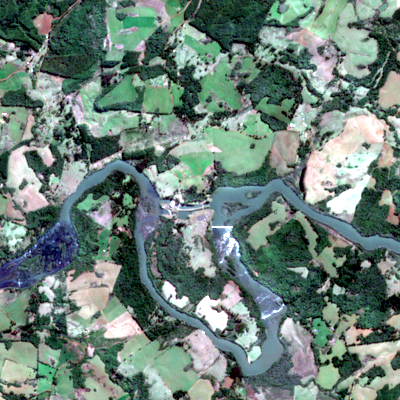Agua: (0, 158, 399, 374), (40, 19, 51, 32), (177, 211, 192, 218)
Solo: (306, 108, 395, 219), (195, 284, 256, 347), (65, 263, 119, 318), (7, 146, 47, 209), (171, 113, 221, 156), (66, 95, 117, 136), (182, 211, 214, 275), (185, 330, 225, 380), (145, 163, 191, 202), (303, 57, 337, 99), (49, 161, 86, 194), (355, 341, 399, 366), (28, 77, 61, 109), (290, 104, 316, 141), (340, 29, 376, 54), (300, 12, 325, 47), (260, 29, 296, 51), (162, 281, 188, 307), (222, 110, 255, 130), (67, 315, 98, 335), (281, 318, 302, 346), (39, 276, 59, 300), (91, 205, 110, 228), (117, 352, 136, 375), (31, 145, 53, 164), (1, 360, 20, 380), (89, 154, 116, 168), (44, 112, 61, 132), (286, 0, 305, 14), (354, 385, 372, 399), (388, 116, 399, 137), (177, 29, 198, 40), (247, 346, 260, 362), (350, 52, 373, 61), (387, 276, 399, 293), (350, 65, 368, 76), (194, 63, 208, 77), (337, 58, 348, 74), (347, 326, 358, 342), (39, 303, 52, 314), (389, 370, 399, 383), (292, 268, 307, 276), (85, 82, 98, 91), (121, 111, 137, 118), (153, 140, 164, 150)
Veg_Densa: (51, 169, 199, 350), (235, 192, 399, 345), (168, 0, 313, 132), (145, 214, 266, 351), (0, 276, 114, 390), (301, 8, 399, 130), (119, 26, 206, 126), (0, 199, 66, 267), (0, 62, 45, 149), (93, 343, 150, 399), (24, 357, 50, 383), (0, 151, 14, 198), (310, 340, 329, 371), (17, 253, 44, 272), (308, 198, 331, 215), (375, 383, 399, 399), (223, 201, 248, 214), (225, 62, 241, 80), (313, 131, 333, 145), (325, 184, 350, 195), (52, 98, 64, 116), (225, 256, 235, 275), (391, 351, 399, 369), (320, 342, 331, 354), (119, 0, 134, 7), (116, 13, 126, 20)
Veg_Rasteira: (65, 0, 302, 202), (0, 247, 232, 399), (235, 302, 399, 399), (160, 195, 214, 271), (304, 104, 343, 165), (76, 194, 128, 238), (324, 73, 369, 104), (211, 304, 248, 340), (375, 129, 399, 177), (373, 71, 399, 115), (303, 177, 341, 207), (377, 249, 399, 296), (236, 325, 260, 352), (379, 190, 398, 223), (53, 159, 69, 182), (178, 301, 199, 317), (361, 171, 375, 194), (33, 13, 53, 29), (384, 309, 399, 330), (88, 280, 108, 288), (151, 257, 159, 276), (317, 281, 329, 293), (123, 194, 135, 206), (148, 57, 165, 65), (2, 332, 20, 339)
